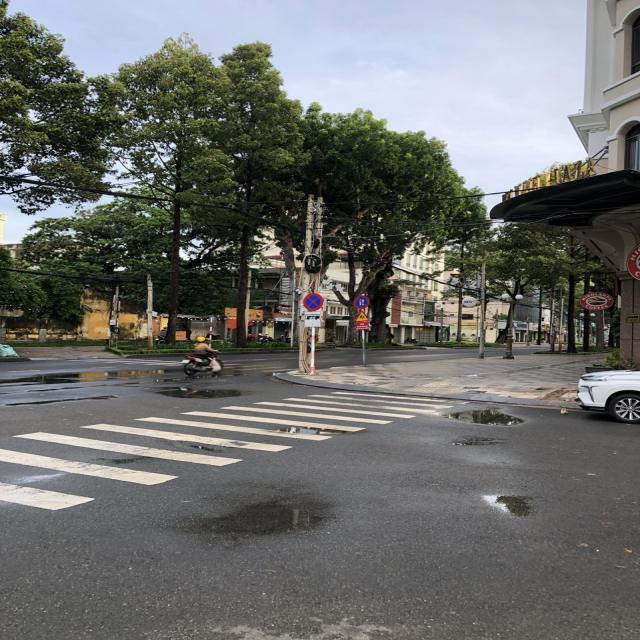Bien bao cam dung xe va do xe: (302, 290, 325, 312)
Bien bao tre em: (353, 310, 370, 321)
